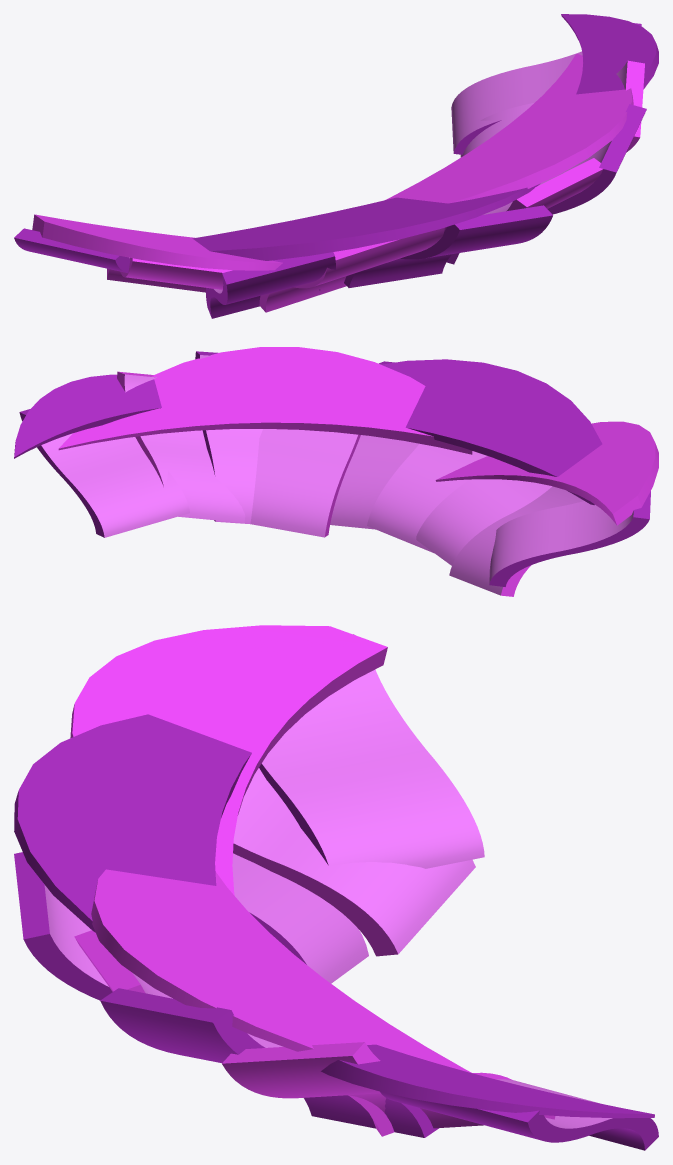
The model's file is shelf_small.fbx.
3 renders of one model, top to bottom at view 1: azimuth 30°, elevation 25°; view 2: azimuth 150°, elevation 25°; view 3: azimuth 270°, elevation 25°, orthographic. The views are drawn at different scales.
Visible parts, largest first — view 1: mergedBlocks; view 2: mergedBlocks; view 3: mergedBlocks.
Boxes of the visible parts, x1,y1,x2,y2 form: mergedBlocks: (14, 14, 658, 318); mergedBlocks: (14, 347, 658, 596); mergedBlocks: (14, 625, 658, 1150).
Bounding box in the file's own units: 23.99 × 5.09 × 13.29.
